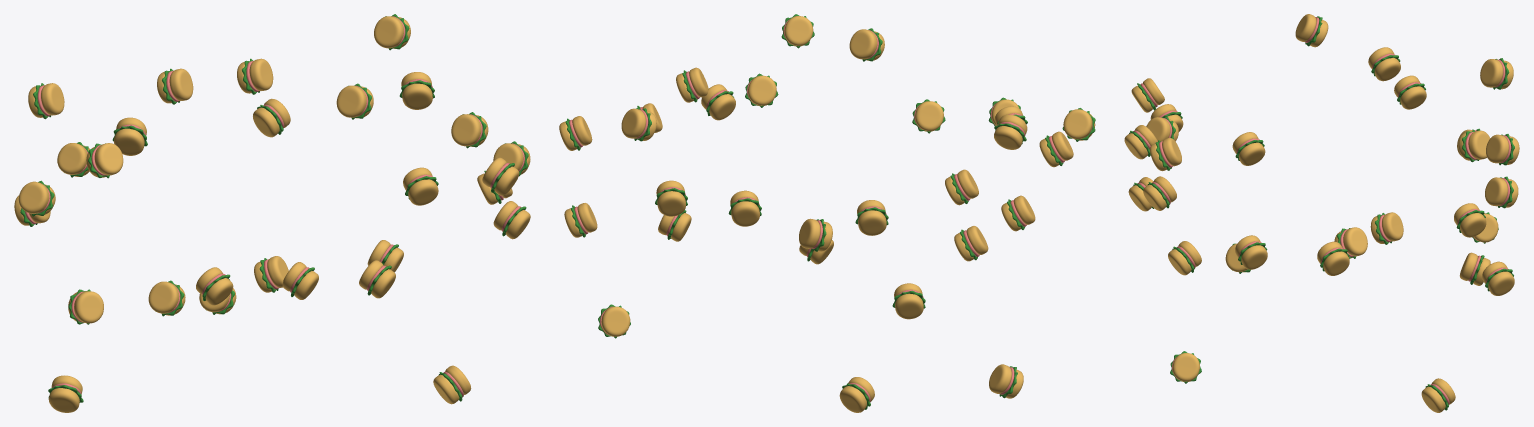
File: borgors.glb
3 views of the same model, side by side, from view 1: azimuth 30°, elevation 25°; view 2: azimuth 150°, elevation 25°; view 3: azimuth 270°, elevation 25° (orthographic). The views are drawn at different scales.
Visible parts, largest first — view 1: Retopo_inst_2.005, Retopo_inst_2.014, Retopo_inst_2.023, Retopo_inst_2.006, Retopo_inst_2.028, Retopo_inst_2.004, Retopo_inst_2.015, Retopo_inst_2.001, Retopo_inst_2.013, Retopo_inst_2.010, Retopo_inst_2.008, Retopo_inst_2.011 (+13 smaller); view 2: Retopo_inst_2.014, Retopo_inst_2.003, Retopo_inst_2.005, Retopo_inst_2.004, Retopo_inst_2.006, Retopo_inst_2.028, Retopo_inst_2.007, Retopo_inst_2.015, Retopo_inst_2.023, Retopo_inst_2.001, Retopo_inst_2.002, Retopo_inst_2.027 (+12 smaller); view 3: Retopo_inst_2.005, Retopo_inst_2.006, Retopo_inst_2.004, Retopo_inst_2.014, Retopo_inst_2.010, Retopo_inst_2.013, Retopo_inst_2.012, Retopo_inst_2.011, Retopo_inst_2.025, Retopo_inst_2.027, Retopo_inst_2.024, Retopo_inst_2.009 (+14 smaller).
Part boxes in pixels (left/top/right/bottom): Retopo_inst_2.005: left=28, top=83, right=64, bottom=119; Retopo_inst_2.014: left=399, top=72, right=434, bottom=109; Retopo_inst_2.023: left=48, top=375, right=83, bottom=412; Retopo_inst_2.006: left=157, top=68, right=193, bottom=104; Retopo_inst_2.028: left=86, top=143, right=123, bottom=178; Retopo_inst_2.004: left=237, top=58, right=273, bottom=94; Retopo_inst_2.015: left=403, top=167, right=438, bottom=205; Retopo_inst_2.001: left=112, top=117, right=147, bottom=155; Retopo_inst_2.013: left=336, top=83, right=373, bottom=119; Retopo_inst_2.010: left=451, top=112, right=488, bottom=148; Retopo_inst_2.008: left=253, top=98, right=290, bottom=137; Retopo_inst_2.011: left=374, top=14, right=410, bottom=50; Retopo_inst_2.014: left=621, top=108, right=656, bottom=141; Retopo_inst_2.003: left=892, top=283, right=925, bottom=319; Retopo_inst_2.005: left=855, top=200, right=888, bottom=235; Retopo_inst_2.004: left=655, top=180, right=687, bottom=216; Retopo_inst_2.006: left=728, top=190, right=761, bottom=226; Retopo_inst_2.028: left=994, top=114, right=1027, bottom=149; Retopo_inst_2.007: left=839, top=377, right=874, bottom=412; Retopo_inst_2.015: left=849, top=28, right=884, bottom=61; Retopo_inst_2.023: left=989, top=364, right=1023, bottom=398; Retopo_inst_2.001: left=799, top=218, right=832, bottom=251; Retopo_inst_2.002: left=701, top=84, right=735, bottom=120; Retopo_inst_2.027: left=954, top=226, right=988, bottom=261; Retopo_inst_2.005: left=1480, top=58, right=1513, bottom=89; Retopo_inst_2.006: left=1486, top=134, right=1519, bottom=165; Retopo_inst_2.004: left=1485, top=176, right=1518, bottom=208; Retopo_inst_2.014: left=1370, top=212, right=1403, bottom=244; Retopo_inst_2.010: left=1317, top=241, right=1349, bottom=275; Retopo_inst_2.013: left=1482, top=261, right=1514, bottom=295; Retopo_inst_2.012: left=1235, top=235, right=1267, bottom=269; Retopo_inst_2.011: left=1454, top=203, right=1486, bottom=237; Retopo_inst_2.025: left=1368, top=47, right=1400, bottom=81; Retopo_inst_2.027: left=1394, top=75, right=1426, bottom=109; Retopo_inst_2.024: left=1232, top=132, right=1265, bottom=165; Retopo_inst_2.009: left=1421, top=378, right=1455, bottom=412.
Bounding box in the file's own units: 18.81 × 11.8 × 16.82.
